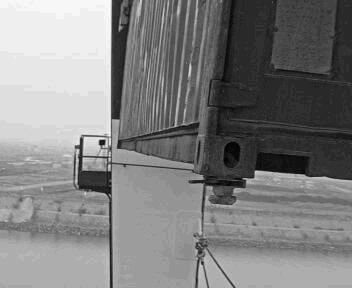twist_lock_1: (196, 172, 250, 209)
